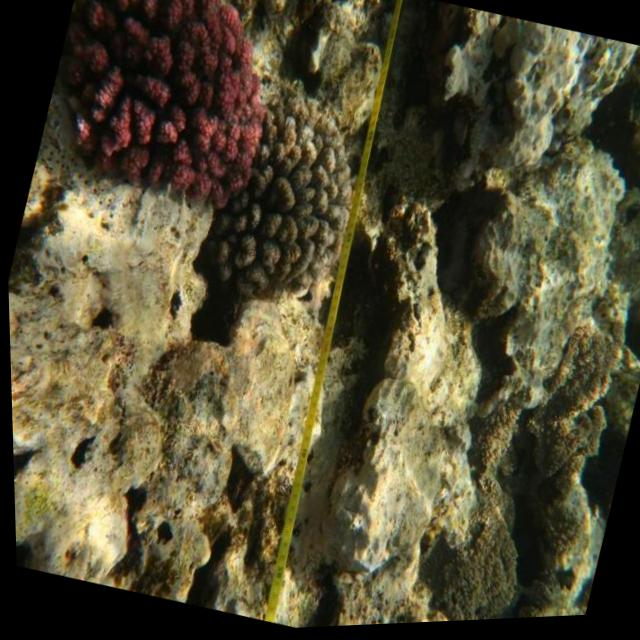Healthy Coral: (25, 0, 304, 238)
